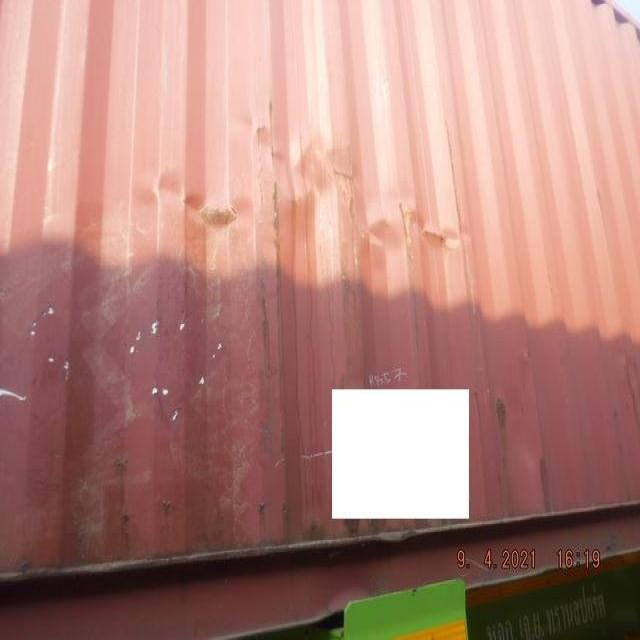Minor-Dent: (126, 107, 474, 281)
